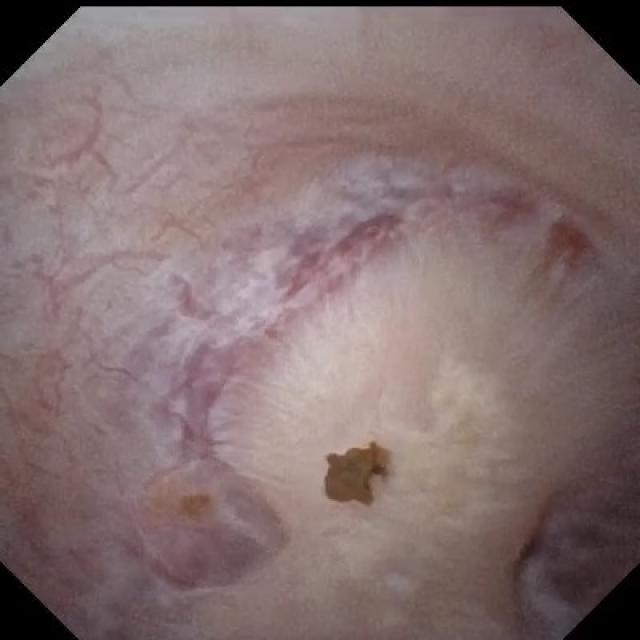stone-new: (326, 442, 389, 504)
